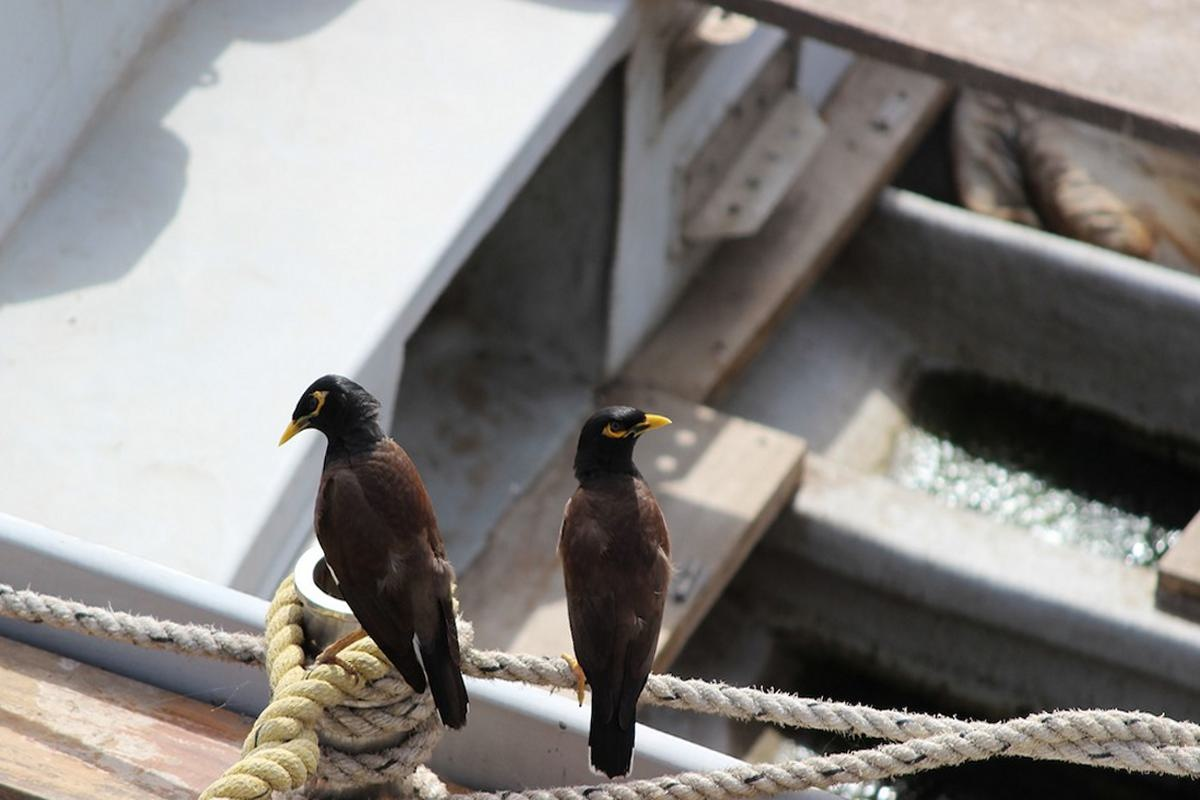myna: (254, 371, 505, 738), (546, 380, 674, 800)
